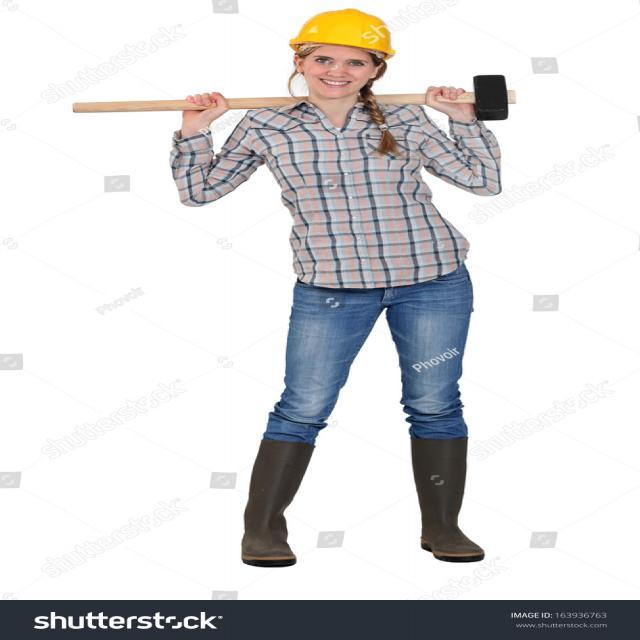hammer: (52, 68, 540, 130)
